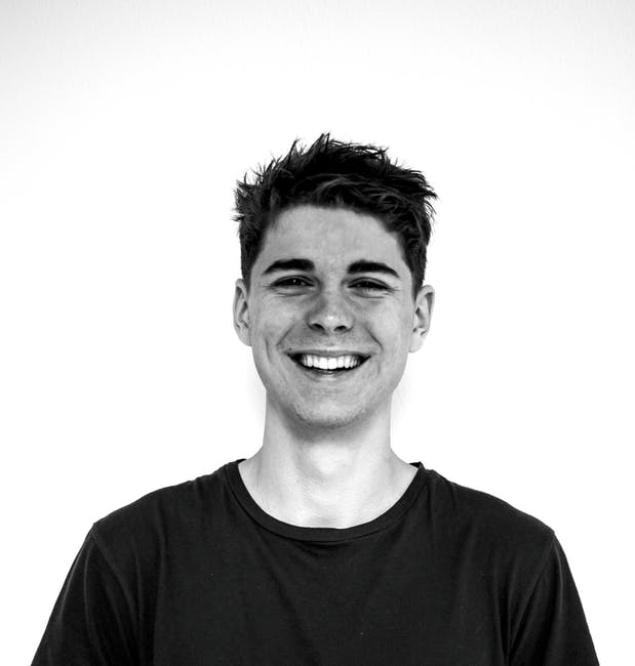face: (248, 206, 411, 428)
